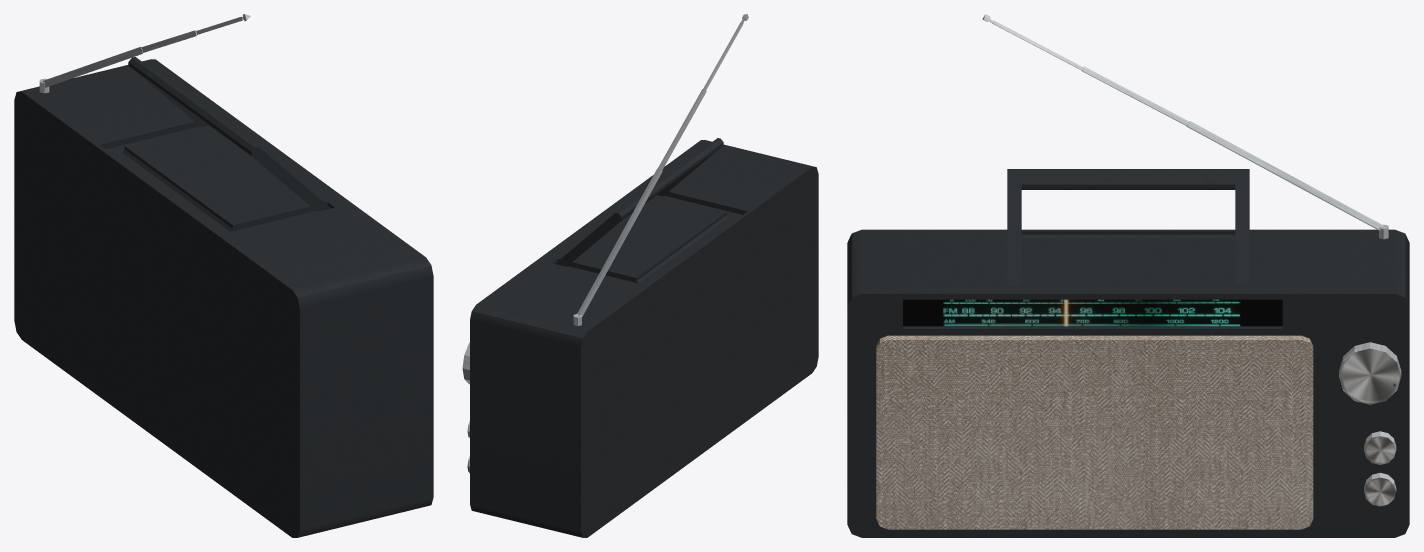
The model's file is radio.fbx.
The picture shows the model from 3 angles, left to right: view 1: azimuth 30°, elevation 25°; view 2: azimuth 150°, elevation 25°; view 3: azimuth 270°, elevation 25°; orthographic projection. The views are drawn at different scales.
Parts seen in each view (by area): view 1: pCylinder8; view 2: pCylinder8; view 3: pCylinder8.
Boxes of the visible parts, x1,y1,x2,y2 form: pCylinder8: (14,14,433,537); pCylinder8: (462,14,818,537); pCylinder8: (847,14,1409,537).
Bounding box in the file's own units: 8.04 × 24.78 × 27.04.
